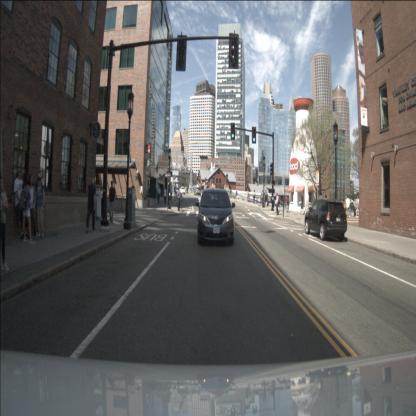human-pedestrian-adult: (19, 173, 36, 243), (14, 167, 29, 240), (0, 177, 10, 272), (26, 174, 40, 239), (35, 178, 45, 238), (86, 178, 96, 234), (108, 180, 116, 223), (299, 195, 305, 215), (176, 188, 180, 212), (346, 195, 350, 218), (275, 193, 279, 215), (157, 185, 161, 204), (162, 186, 166, 202), (353, 197, 356, 218), (356, 196, 359, 216), (164, 187, 167, 205), (261, 189, 264, 206), (285, 195, 288, 212), (264, 190, 267, 206), (174, 183, 177, 197), (170, 186, 172, 202), (253, 189, 255, 203), (247, 188, 249, 202), (236, 189, 237, 198)
vehicle-car: (198, 189, 235, 244), (304, 198, 348, 242), (194, 187, 201, 196), (180, 186, 186, 195)
